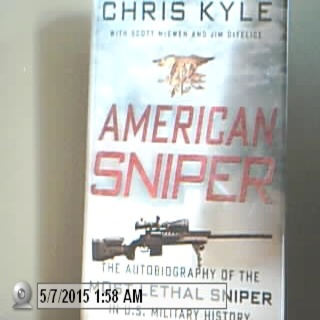rifle: (90, 216, 272, 272)
